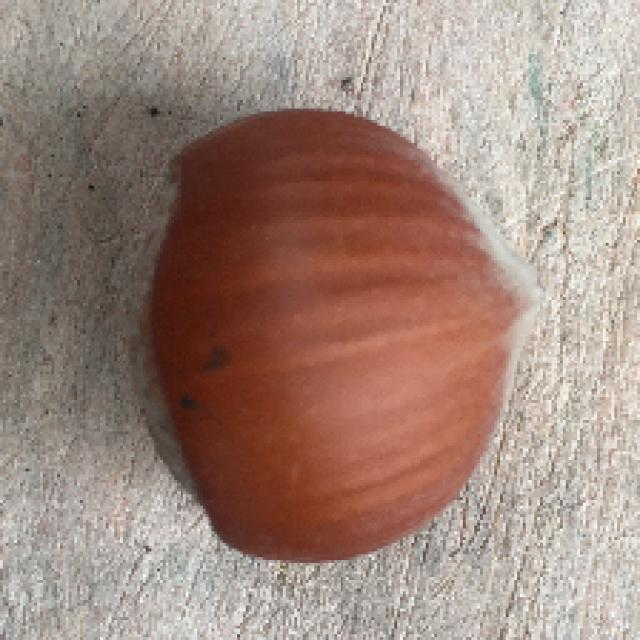QualityHazelnut: (122, 107, 549, 568)
